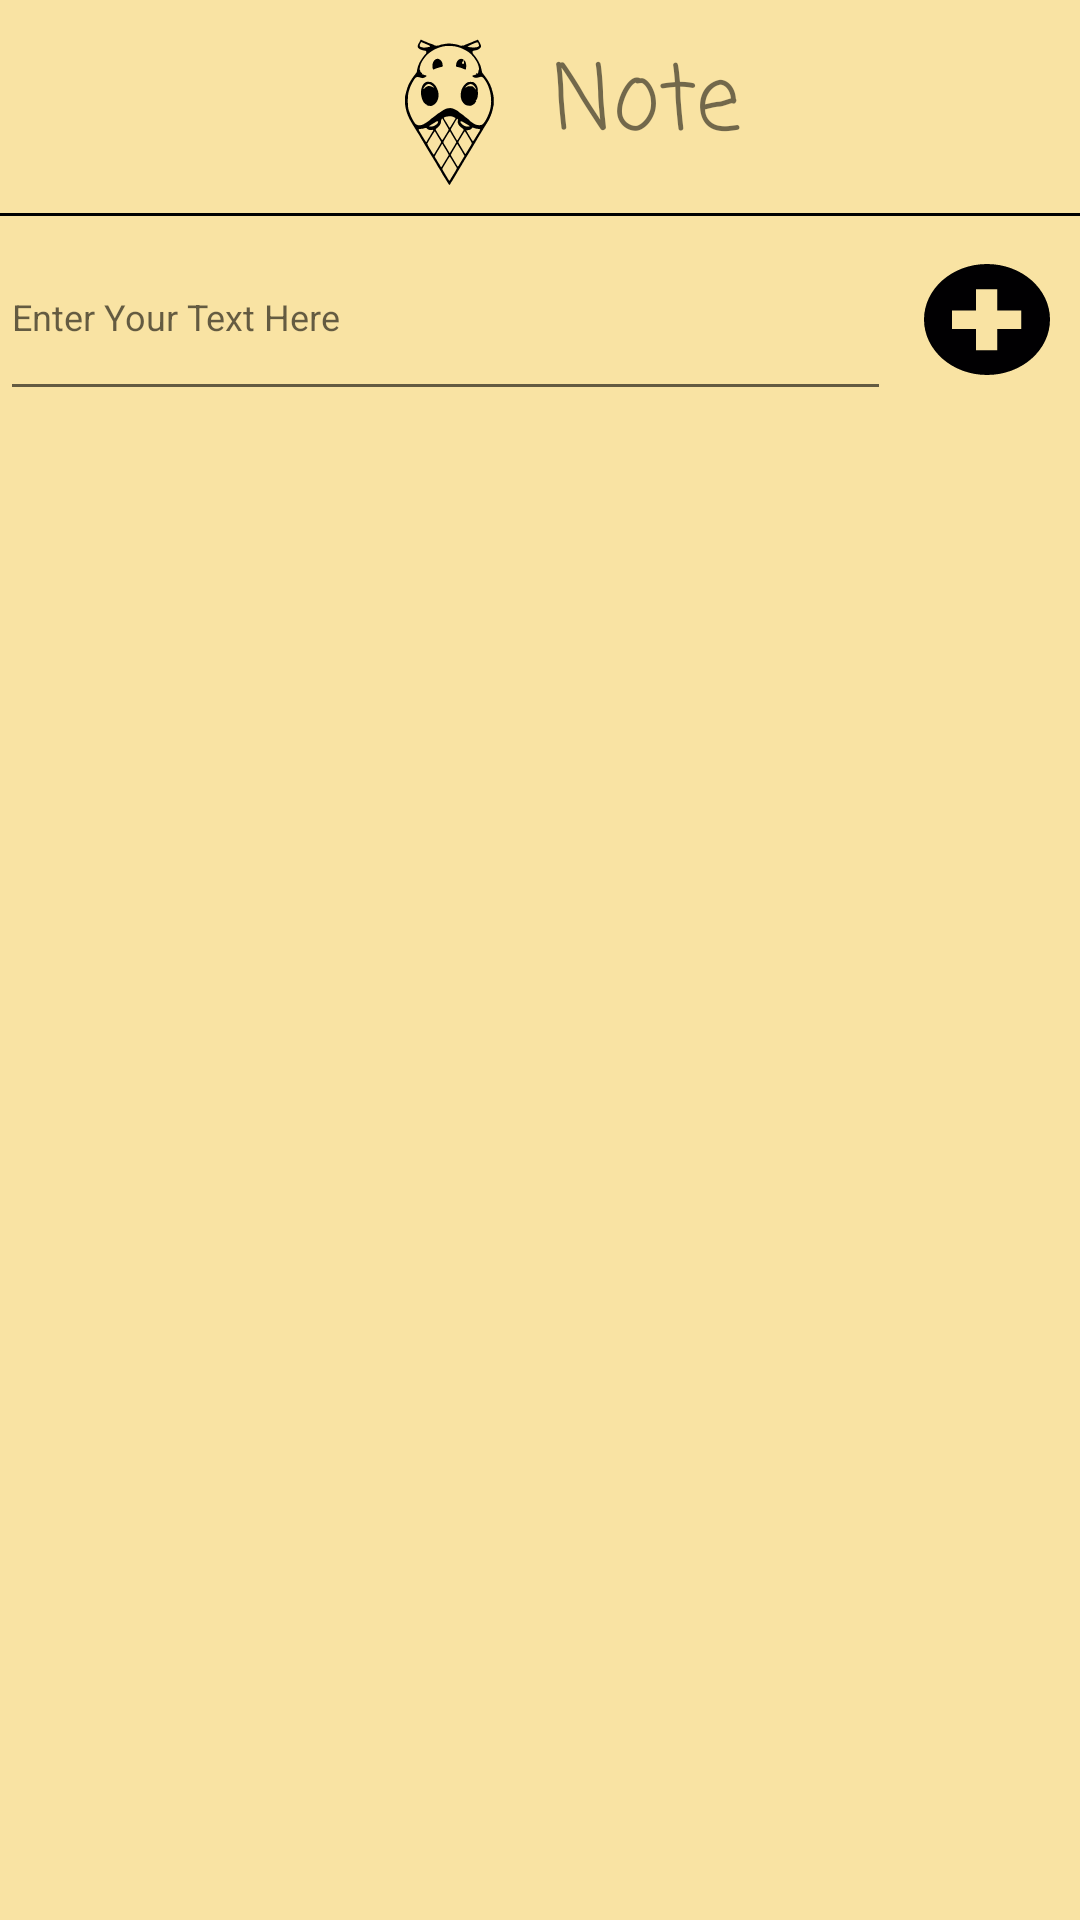

Icons on this 1080 × 1920 Android screen, each with the point to tap as point (x, y):
add to list: point (987, 319)
